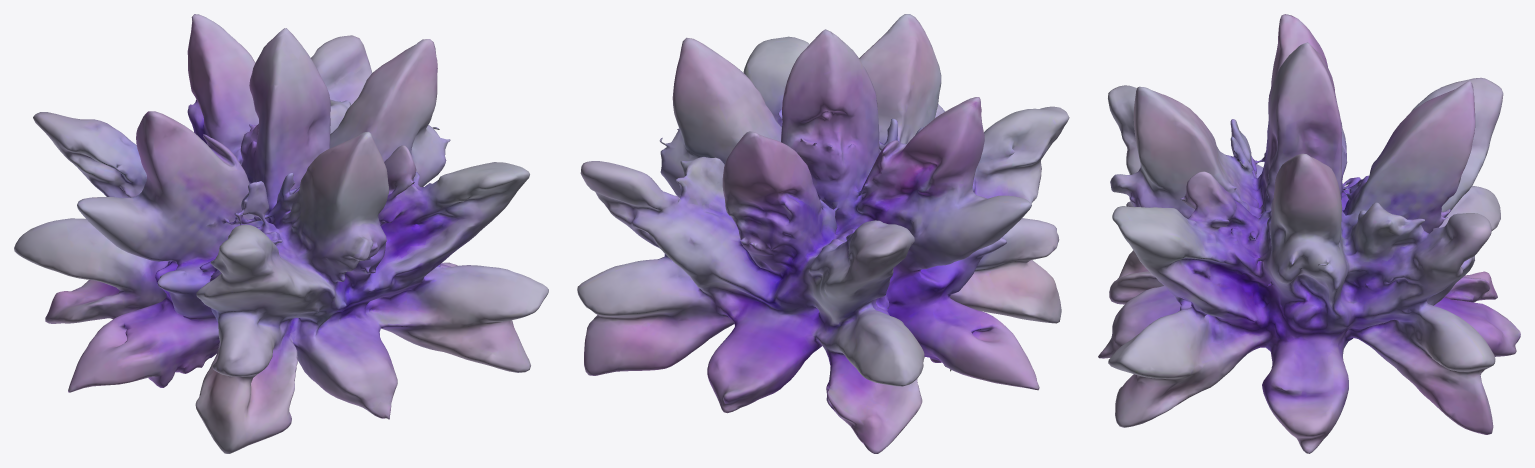
File: 760bb764aa20_Crystal_flower_with_violet_t_0_glb.glb
3 views of the same model, side by side, from view 1: azimuth 30°, elevation 25°; view 2: azimuth 150°, elevation 25°; view 3: azimuth 270°, elevation 25° (orthographic).
Parts seen in each view (by area): view 1: world; view 2: world; view 3: world.
Boxes of the visible parts, x1,y1,x2,y2 form: world: (14,14,548,453); world: (577,14,1069,453); world: (1098,14,1520,453).
Bounding box in the file's own units: 0.5101 × 0.3888 × 0.4561.
Materials: 1 (1 with a texture image).
